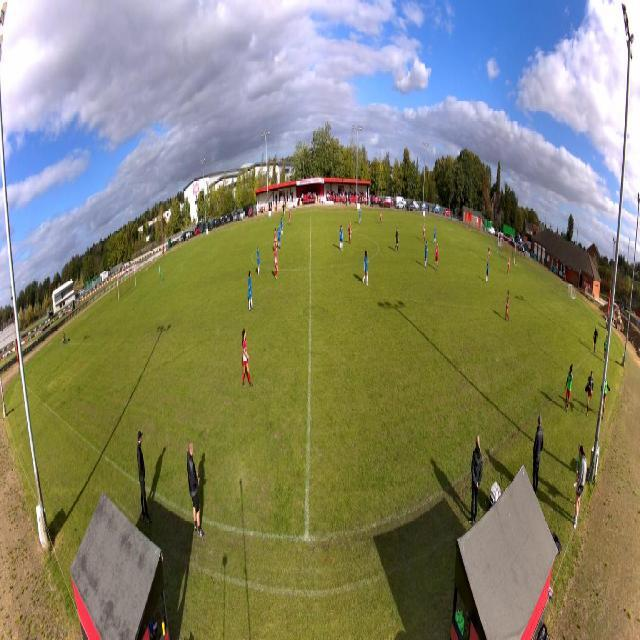ball: (508, 262, 509, 266)
player: (242, 329, 253, 388), (362, 249, 370, 287), (248, 271, 254, 312), (274, 248, 279, 280), (272, 228, 278, 253), (434, 243, 439, 271), (506, 290, 510, 324), (395, 227, 400, 254), (257, 245, 261, 276), (347, 220, 352, 244), (424, 239, 428, 269), (339, 225, 343, 252), (278, 225, 282, 249), (422, 221, 426, 242), (158, 264, 162, 284), (280, 217, 284, 236), (433, 225, 437, 244), (507, 257, 511, 276), (486, 259, 489, 283), (379, 210, 383, 226), (488, 245, 491, 264), (289, 209, 292, 226), (359, 208, 362, 225)
